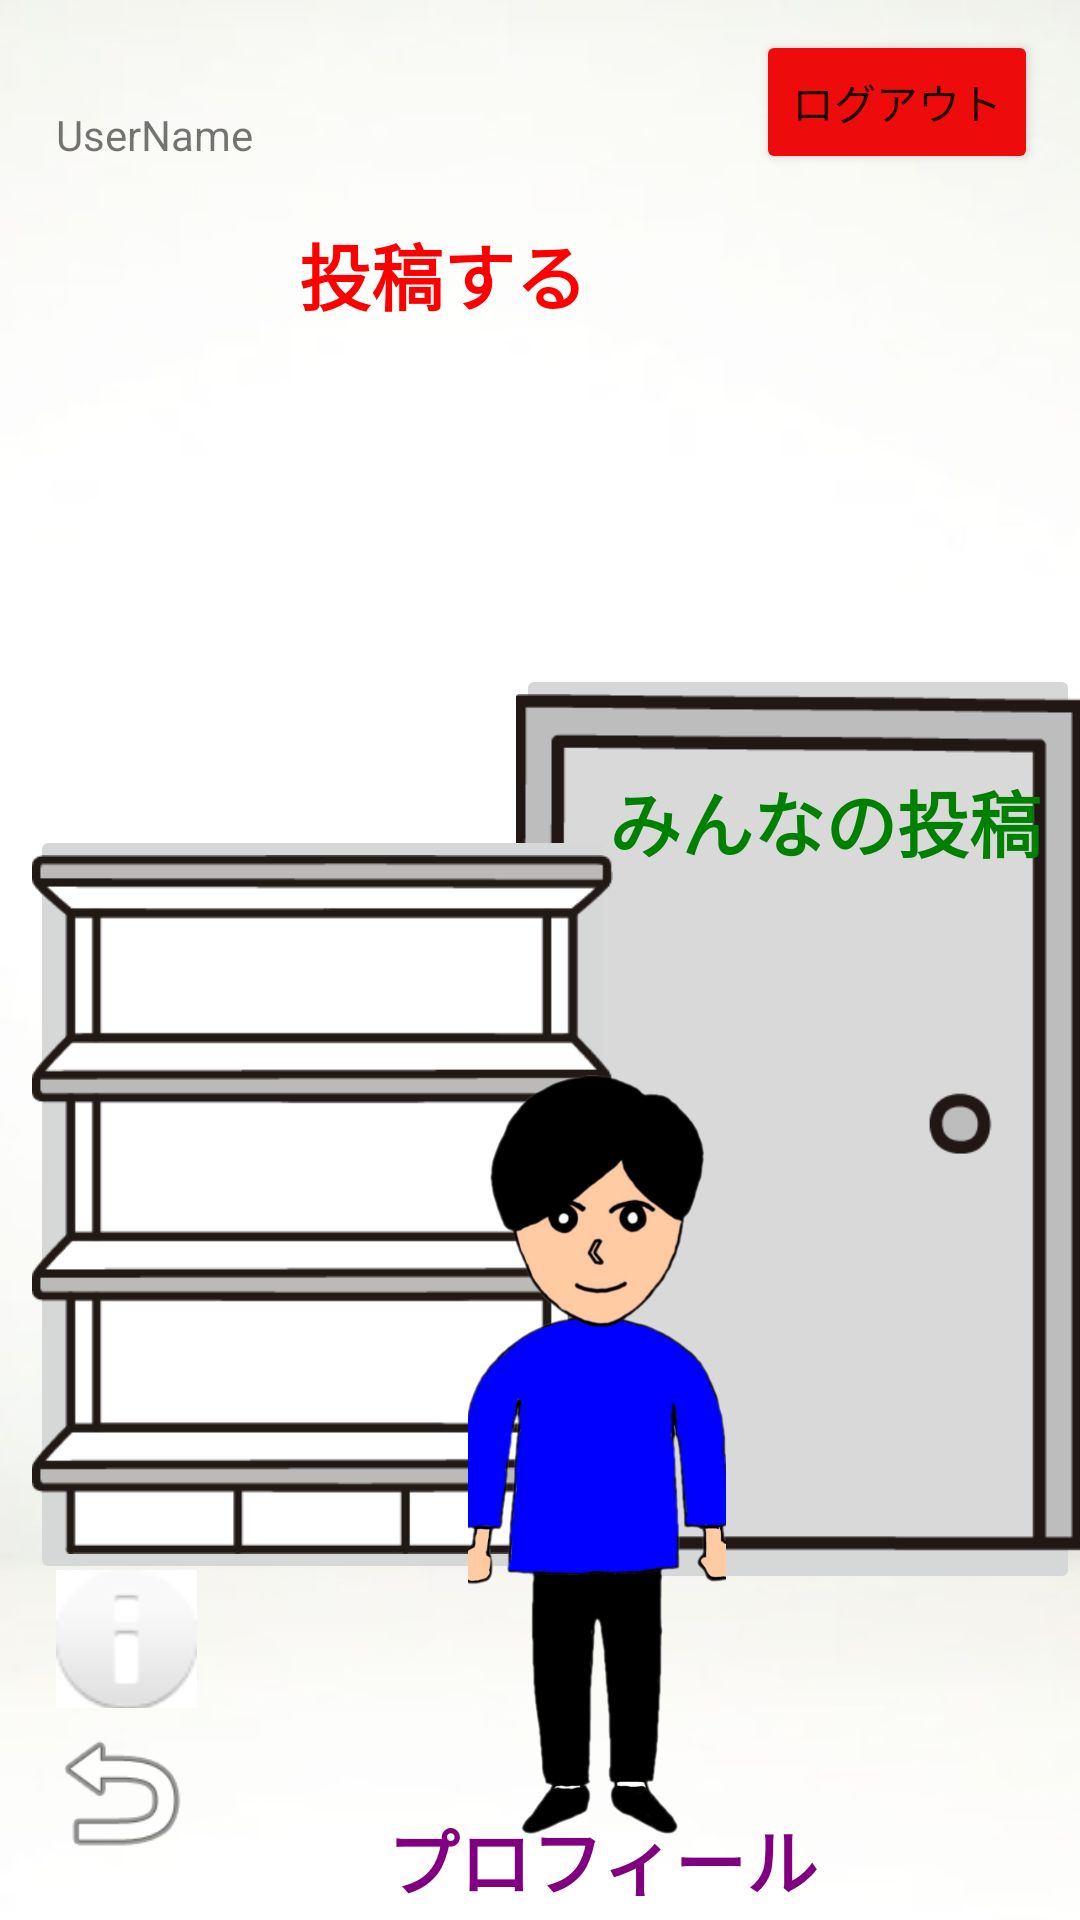

Screen size 1080w x 1920h. Icon name, then its box in pixels as (x1, y1, x2, y2):
info: (56, 1595, 197, 1708)
revert: (65, 1741, 180, 1846)
